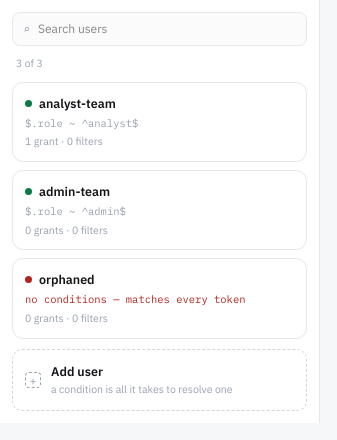
Test case: UserList › search narrows the visible users by name
This screenshot has width=337, height=440.
Expected: the number of buttons "analyst-team $.role ~ ^analyst$ 1 grant · 0 filters" is 3, top-left (12, 82), bottom-right (307, 162); top-left (12, 170), bottom-right (307, 250); top-left (12, 258), bottom-right (307, 338)
Type "analyst" into the field with placeholder "Search users" at x=167, y=29, box top-left (38, 13), bottom-right (296, 45)
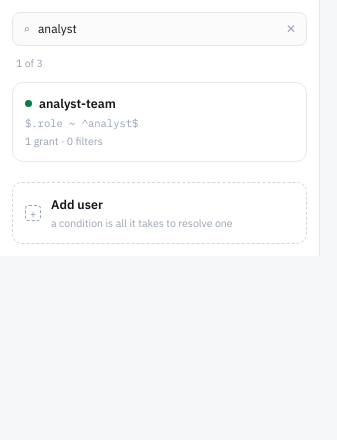
Expected: the number of buttons "analyst-team $.role ~ ^analyst$ 1 grant · 0 filters" is 1, top-left (12, 82), bottom-right (307, 162)
Expected: the button "admin-team" is gone
